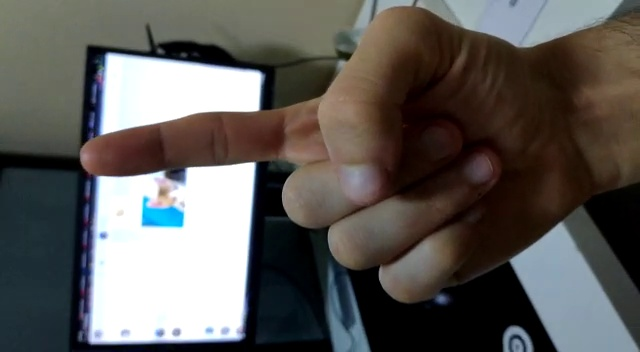One: (88, 3, 618, 305)
